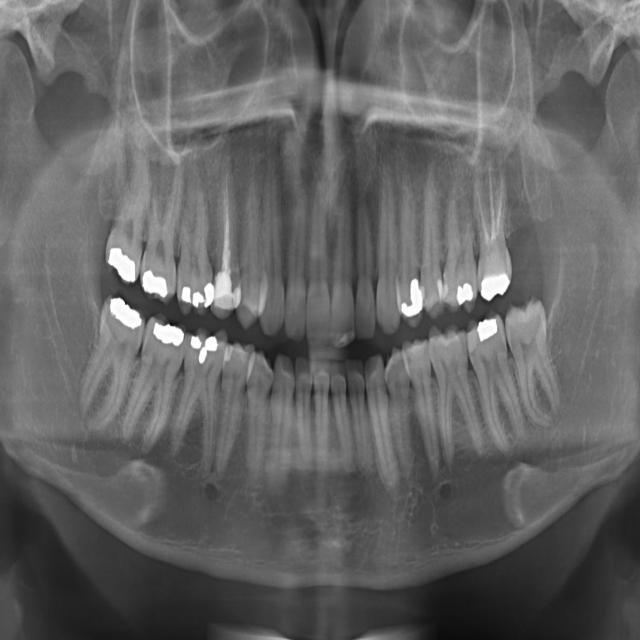3M ESPE Implant: (99, 137, 160, 288)
AGS Medikal Implant: (494, 379, 494, 380)
AMerOss Implant: (426, 319, 487, 463)
Amalgam filling: (138, 160, 183, 305)
Anthogyr Implant: (402, 338, 441, 479)
Bicon Implant: (380, 344, 426, 478)
BioHorizons Implant: (362, 355, 400, 488)
BioLife Implant: (345, 357, 377, 470)
Biomet 3i Implant: (329, 361, 355, 474)
Blue Sky Bio Implant: (313, 361, 330, 478)
Camlog Implant: (297, 358, 314, 470)
Caries: (356, 186, 375, 340)
Composite filling: (264, 352, 297, 494)
Cowellmedi Implant: (234, 351, 276, 485)
Crown: (197, 339, 258, 482)
DENTSPLY Implant: (175, 177, 218, 317)
Dentatus Implant: (166, 325, 230, 475)
Dentis Implant: (115, 311, 193, 458)
Dentium Implant: (71, 293, 151, 435)
Euroteknika Implant: (209, 154, 249, 319)
Filling: (234, 173, 272, 332)
Frontier Implant: (259, 156, 284, 337)
Hiossen Implant: (370, 163, 401, 337)
Implant: (302, 179, 331, 348)
Implant Direct: (285, 191, 306, 340)
Keystone Dental Implant: (330, 181, 354, 348)
MIS Implant: (390, 170, 424, 329)
Mandible: (414, 159, 444, 321)
Maxilla: (434, 178, 479, 316)
Megagen Implant: (470, 155, 513, 304)
Neoss Implant: (501, 294, 566, 433)
